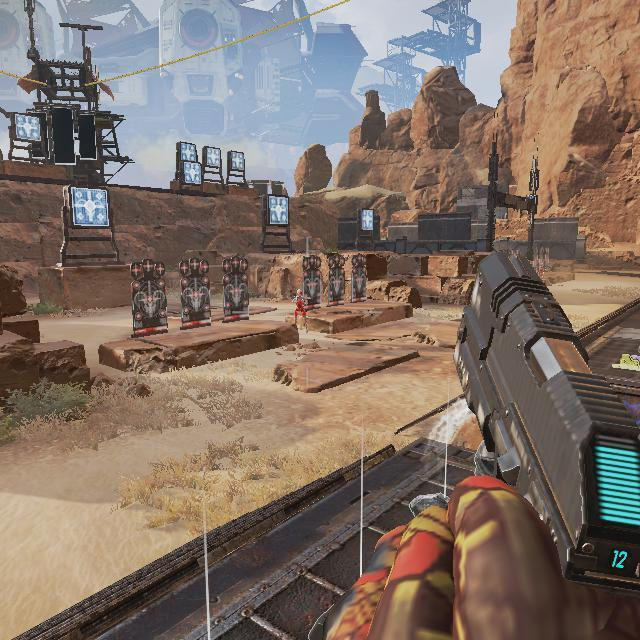avatar: (291, 288, 309, 324)
